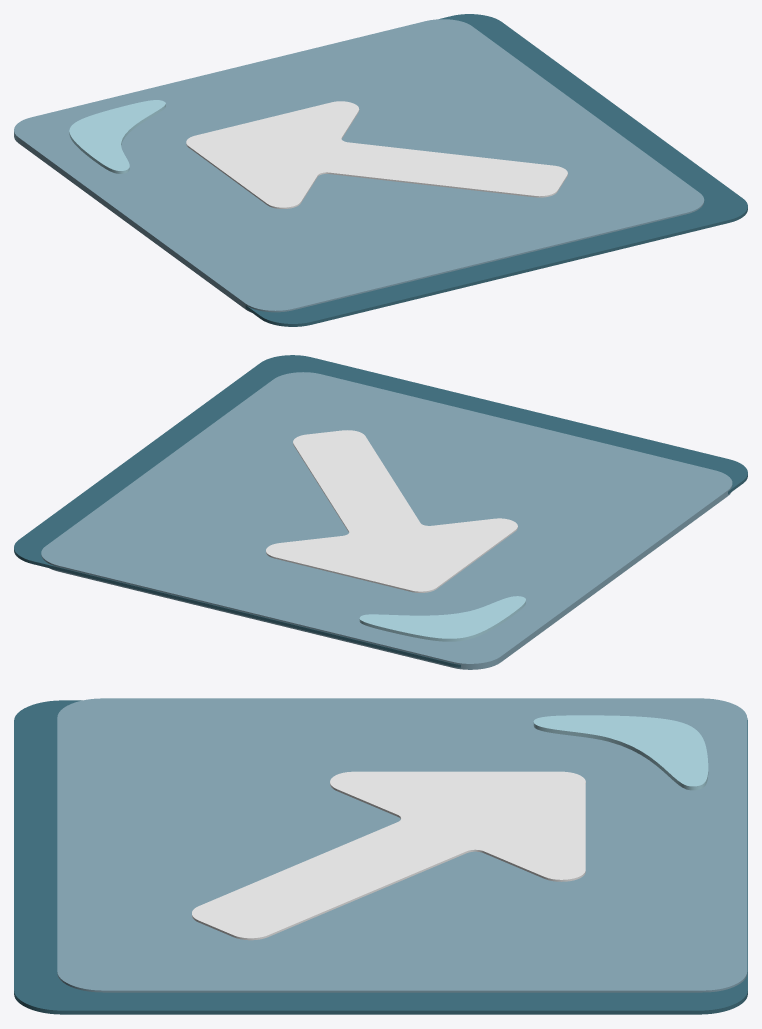
Rendered from emoji_u2196.glb.
3 views of the same model, one above another, from view 1: azimuth 30°, elevation 25°; view 2: azimuth 150°, elevation 25°; view 3: azimuth 270°, elevation 25° (orthographic). The views are drawn at different scales.
Parts seen in each view (by area): view 1: emoji_u2196; view 2: emoji_u2196; view 3: emoji_u2196.
Part boxes in pixels (box(x1,y1,x2,y2)): emoji_u2196: box(14, 14, 747, 326); emoji_u2196: box(14, 355, 747, 669); emoji_u2196: box(14, 698, 747, 1014).
Bounding box in the file's own units: 0.0339 × 0.0008 × 0.0339.
